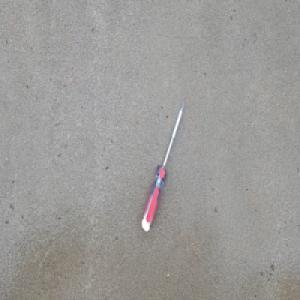Screwdriver: (140, 100, 185, 234)
